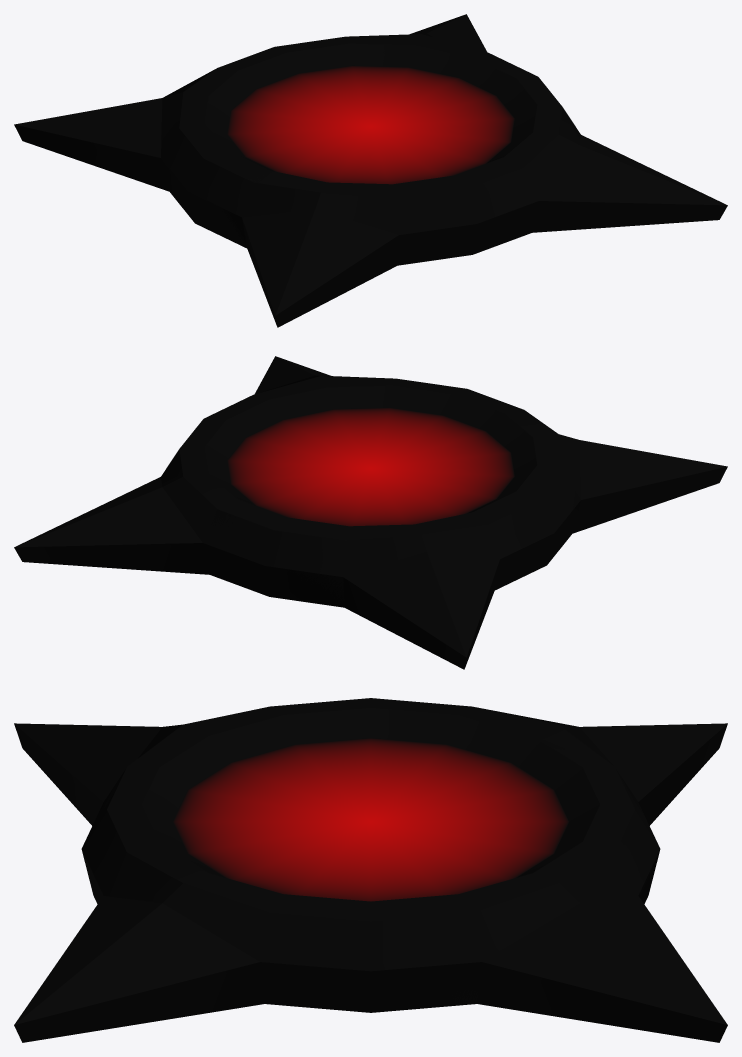
The model's file is Markers.fbx.
The picture shows the model from 3 angles, top to bottom: view 1: azimuth 30°, elevation 25°; view 2: azimuth 150°, elevation 25°; view 3: azimuth 270°, elevation 25°; orthographic projection. The views are drawn at different scales.
Visible parts, largest first — view 1: BossMarker, GenericMarker; view 2: BossMarker, GenericMarker; view 3: BossMarker, GenericMarker.
Part boxes in pixels (x1=…): BossMarker: x1=14, y1=14, x2=727, y2=327; GenericMarker: x1=189, y1=43, x2=540, y2=253; BossMarker: x1=14, y1=356, x2=727, y2=669; GenericMarker: x1=179, y1=385, x2=580, y2=602; BossMarker: x1=14, y1=698, x2=727, y2=1042; GenericMarker: x1=82, y1=701, x2=660, y2=1012.
Size of the model in its own units: 0.4376 by 0.0621 by 0.4376.
